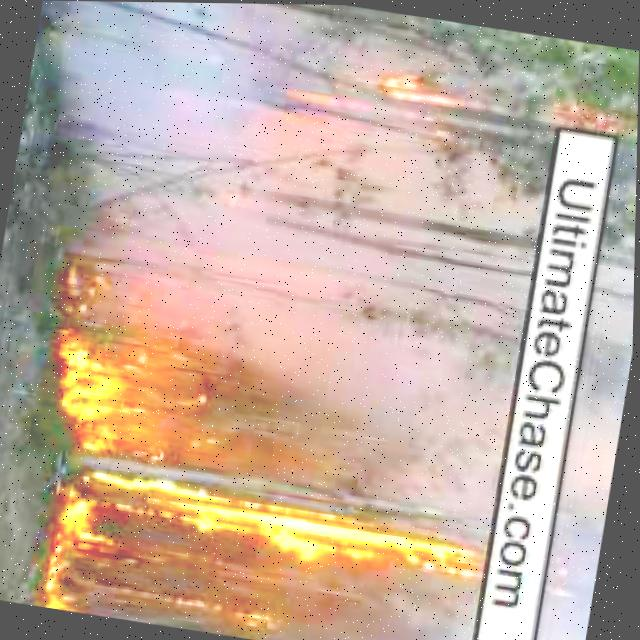Fire: (24, 330, 176, 621), (167, 491, 497, 590), (352, 48, 489, 123), (142, 587, 279, 631), (556, 96, 634, 143)
Smoke: (31, 14, 564, 640), (535, 128, 638, 640)
